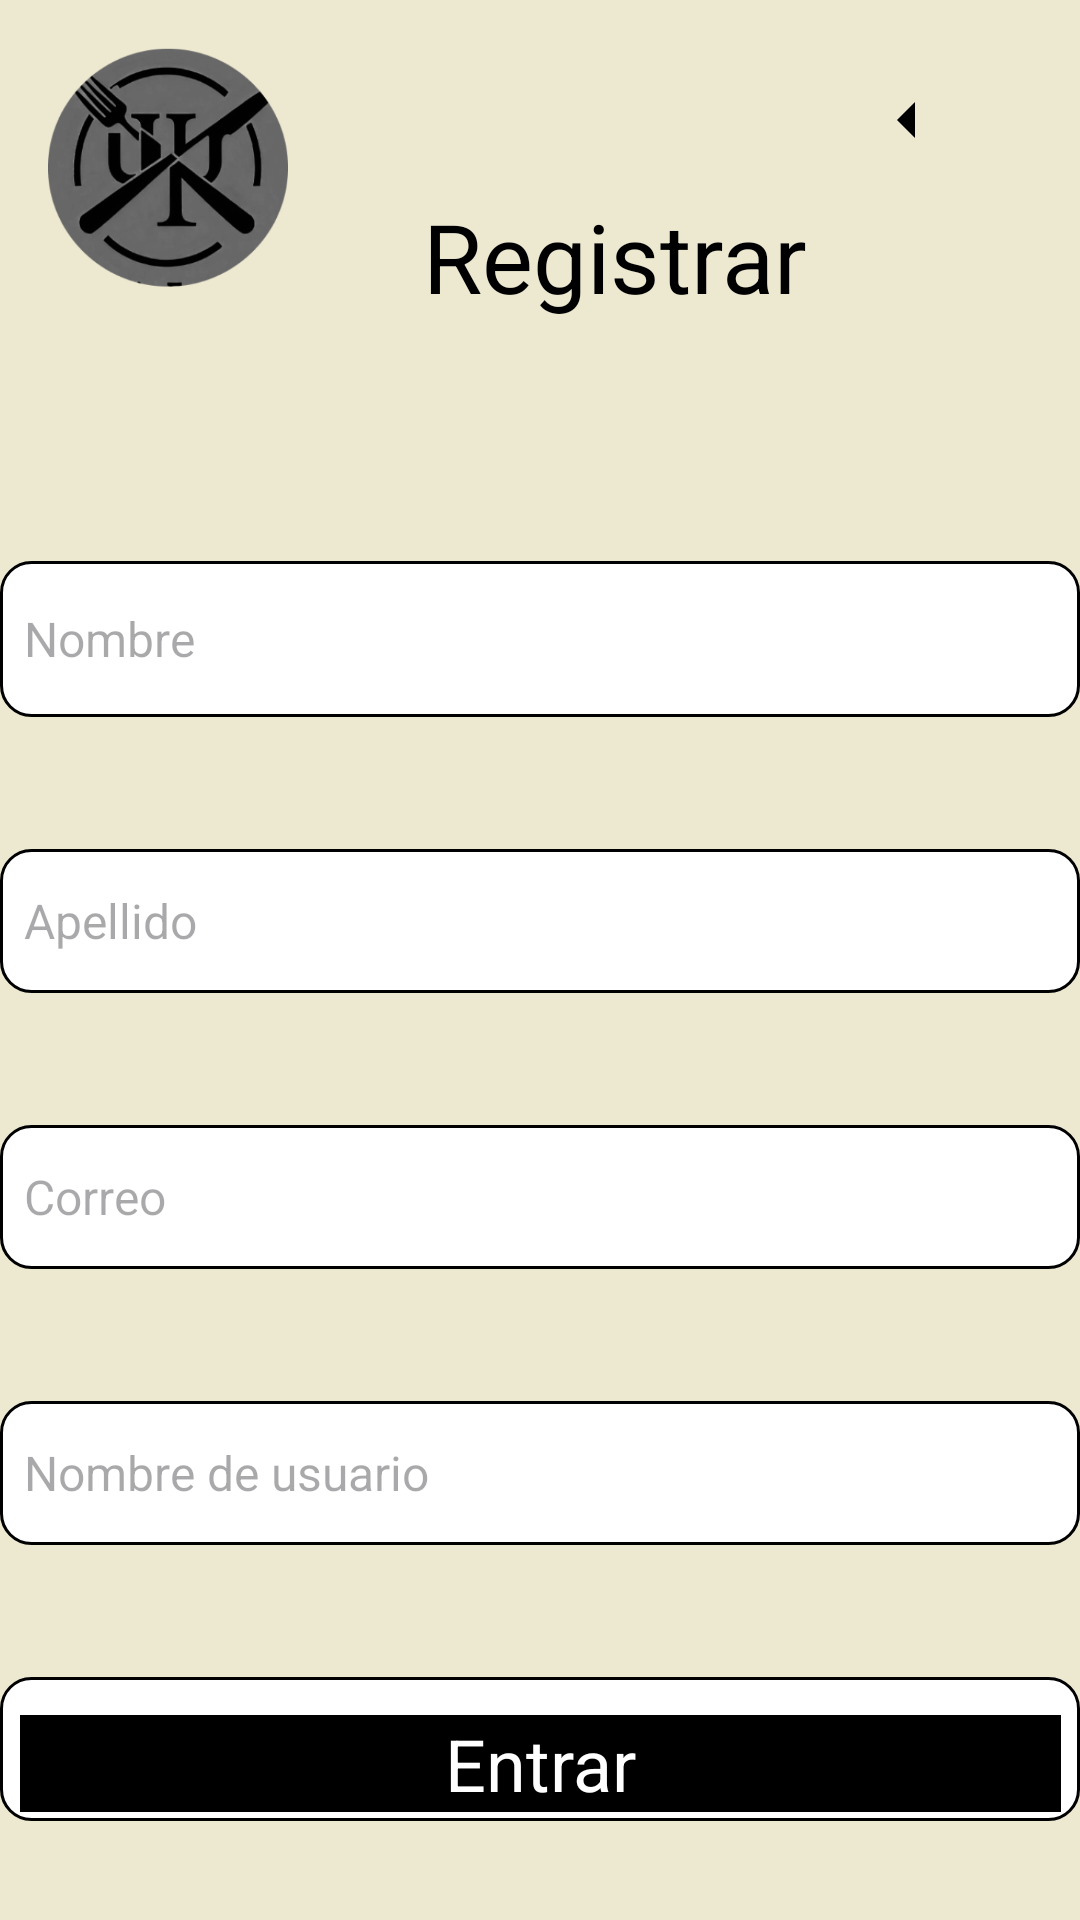

Screen size 1080px×1920px. Icon name, then its box in pixels as box(x1, y1, x2, y2):
Regresar: box(897, 102, 915, 138)
